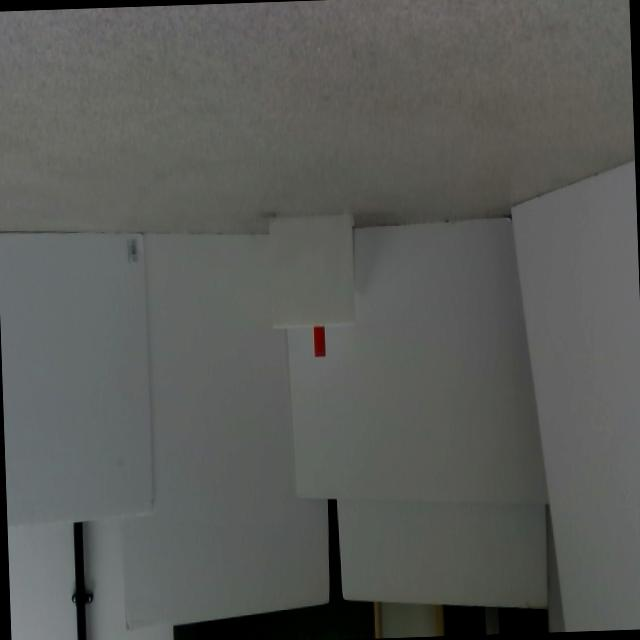red_cylinder: (313, 326, 325, 356)
